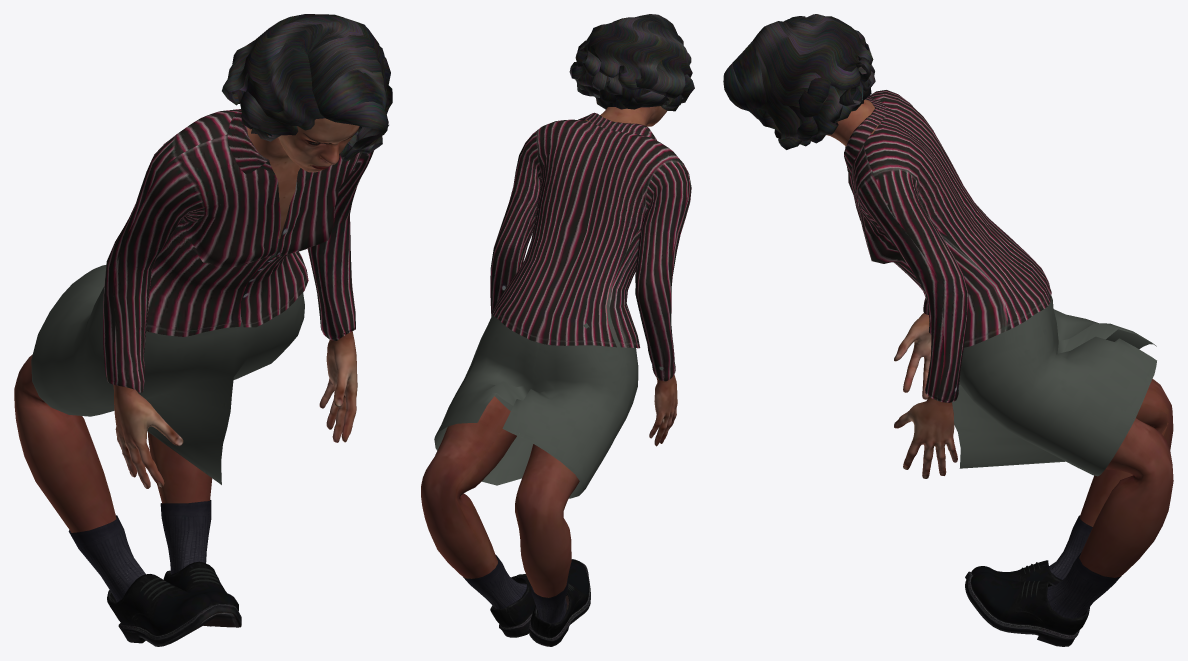
File: donna-03.glb
3 renders of one model, left to right at view 1: azimuth 30°, elevation 25°; view 2: azimuth 150°, elevation 25°; view 3: azimuth 270°, elevation 25°, orthographic. The views are drawn at different scales.
Parts seen in each view (by area): view 1: Human.female_elegantsuit01, Human, Human.elvs_wavy_bob, Human.shoes03; view 2: Human.female_elegantsuit01, Human, Human.elvs_wavy_bob, Human.shoes03; view 3: Human.female_elegantsuit01, Human, Human.elvs_wavy_bob, Human.shoes03.
Boxes of the visible parts, x1=… form: Human.female_elegantsuit01: x1=31, y1=109, x2=373, y2=484; Human: x1=14, y1=118, x2=359, y2=532; Human.elvs_wavy_bob: x1=222, y1=14, x2=392, y2=160; Human.shoes03: x1=68, y1=500, x2=241, y2=646; Human.female_elegantsuit01: x1=434, y1=112, x2=691, y2=498; Human: x1=421, y1=106, x2=677, y2=597; Human.elvs_wavy_bob: x1=569, y1=14, x2=694, y2=111; Human.shoes03: x1=463, y1=554, x2=590, y2=646; Human.female_elegantsuit01: x1=844, y1=90, x2=1156, y2=476; Human: x1=826, y1=99, x2=1173, y2=577; Human.elvs_wavy_bob: x1=723, y1=14, x2=875, y2=149; Human.shoes03: x1=965, y1=515, x2=1121, y2=646.
Bounding box in the file's own units: 0.4524 × 1.28 × 0.8478.
12 materials, 12 textured.
